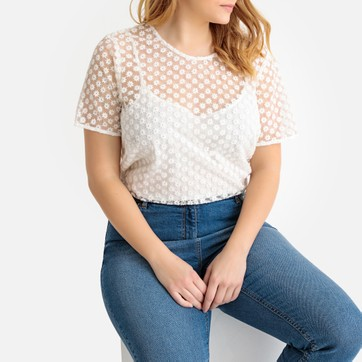C_jeans: (96, 200, 362, 362)
C_short blouse: (75, 20, 288, 207)
